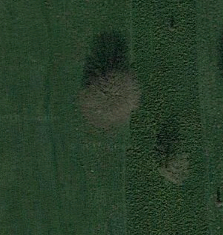tree: (74, 65, 147, 131), (154, 143, 190, 192)
